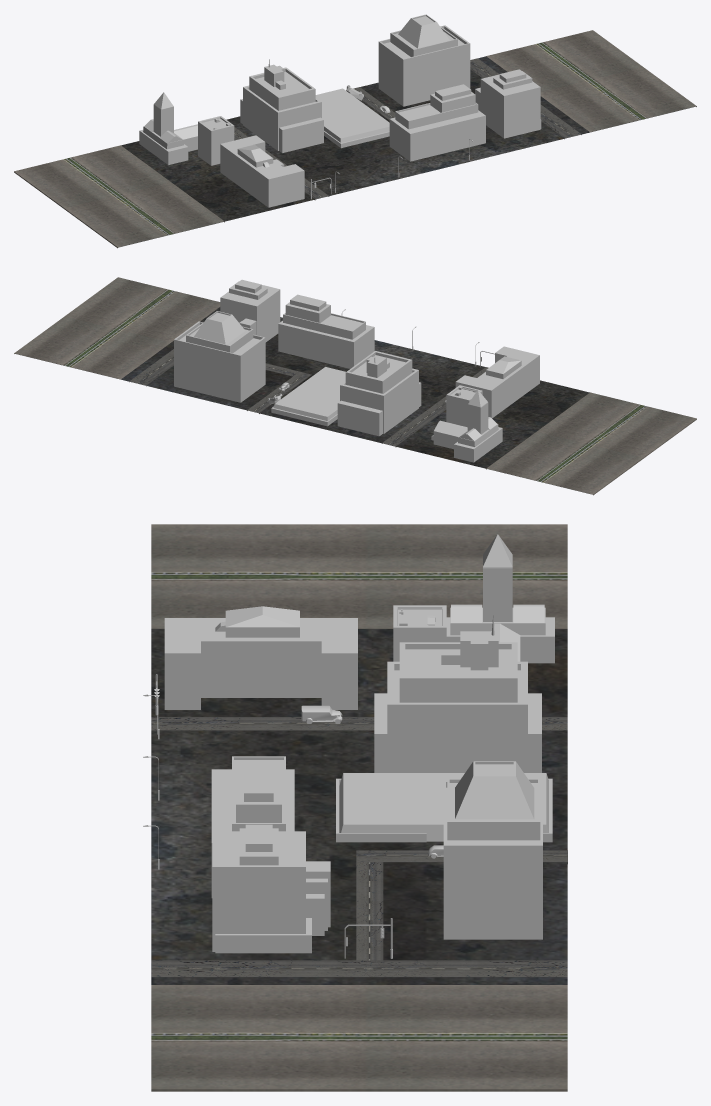
File: Block_07.fbx
3 views of the same model, one above another, from view 1: azimuth 30°, elevation 25°; view 2: azimuth 150°, elevation 25°; view 3: azimuth 270°, elevation 25° (orthographic). The views are drawn at different scales.
Parts seen in each view (by area): view 1: pasted__polySurface1394; view 2: pasted__polySurface1394; view 3: pasted__polySurface1394.
Part boxes in pixels (x1,y1,x2,y2): pasted__polySurface1394: (14,14,696,248); pasted__polySurface1394: (14,277,696,495); pasted__polySurface1394: (143,524,567,1091).
Size of the model in its own units: 459 by 146 by 55.44.
